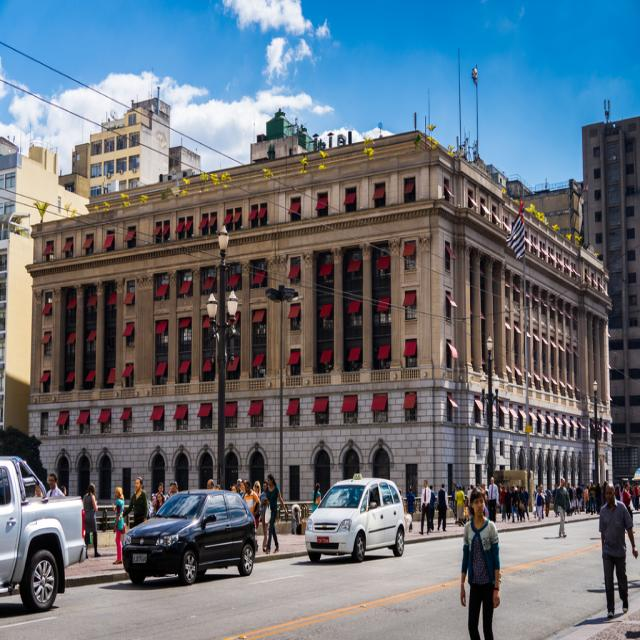car: (120, 485, 256, 582), (302, 470, 411, 558)
